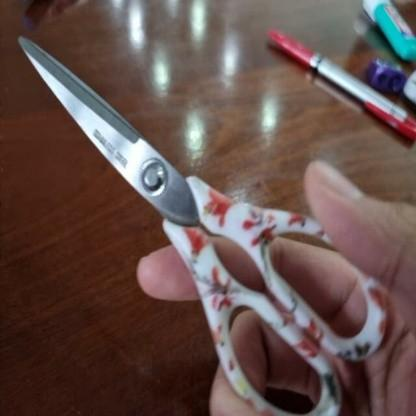not trash: (12, 31, 386, 416), (266, 28, 416, 142), (349, 0, 416, 56), (365, 53, 407, 98)
